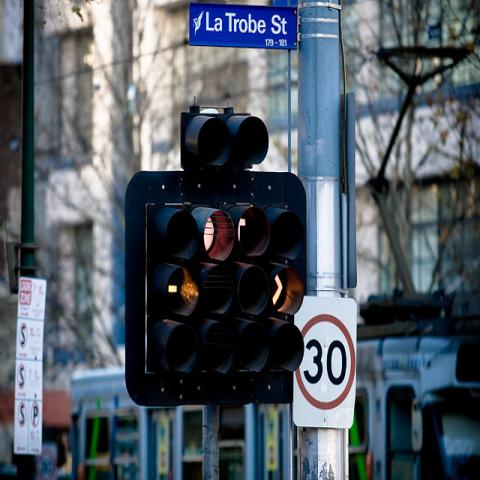bus: (68, 334, 480, 475)
